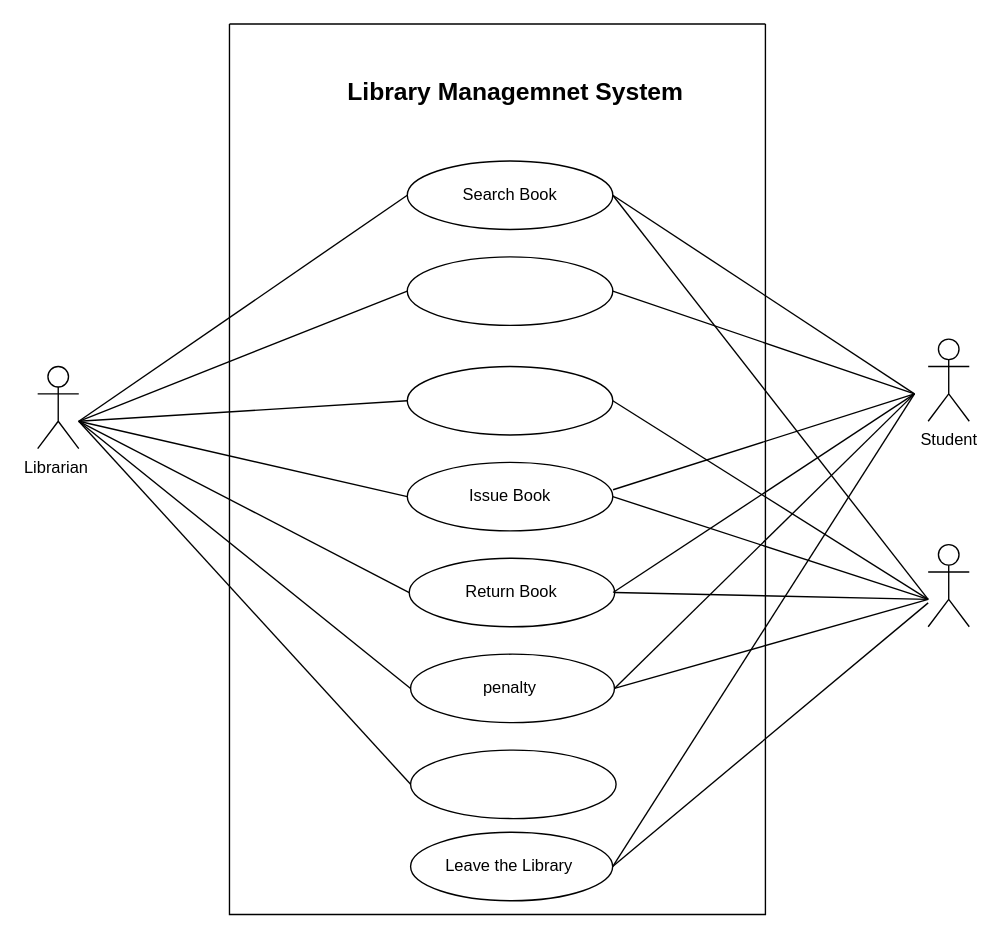
The diagram is 1000 pixels wide and 938 high, and some of its shapes have lost their labels. Each missing label, with the centre of its shape:
"Faculty" goes at point (948, 585).
"Faculty Details" goes at point (509, 400).
"Manage Book Details" goes at point (512, 784).
"student Details" goes at point (509, 290).
